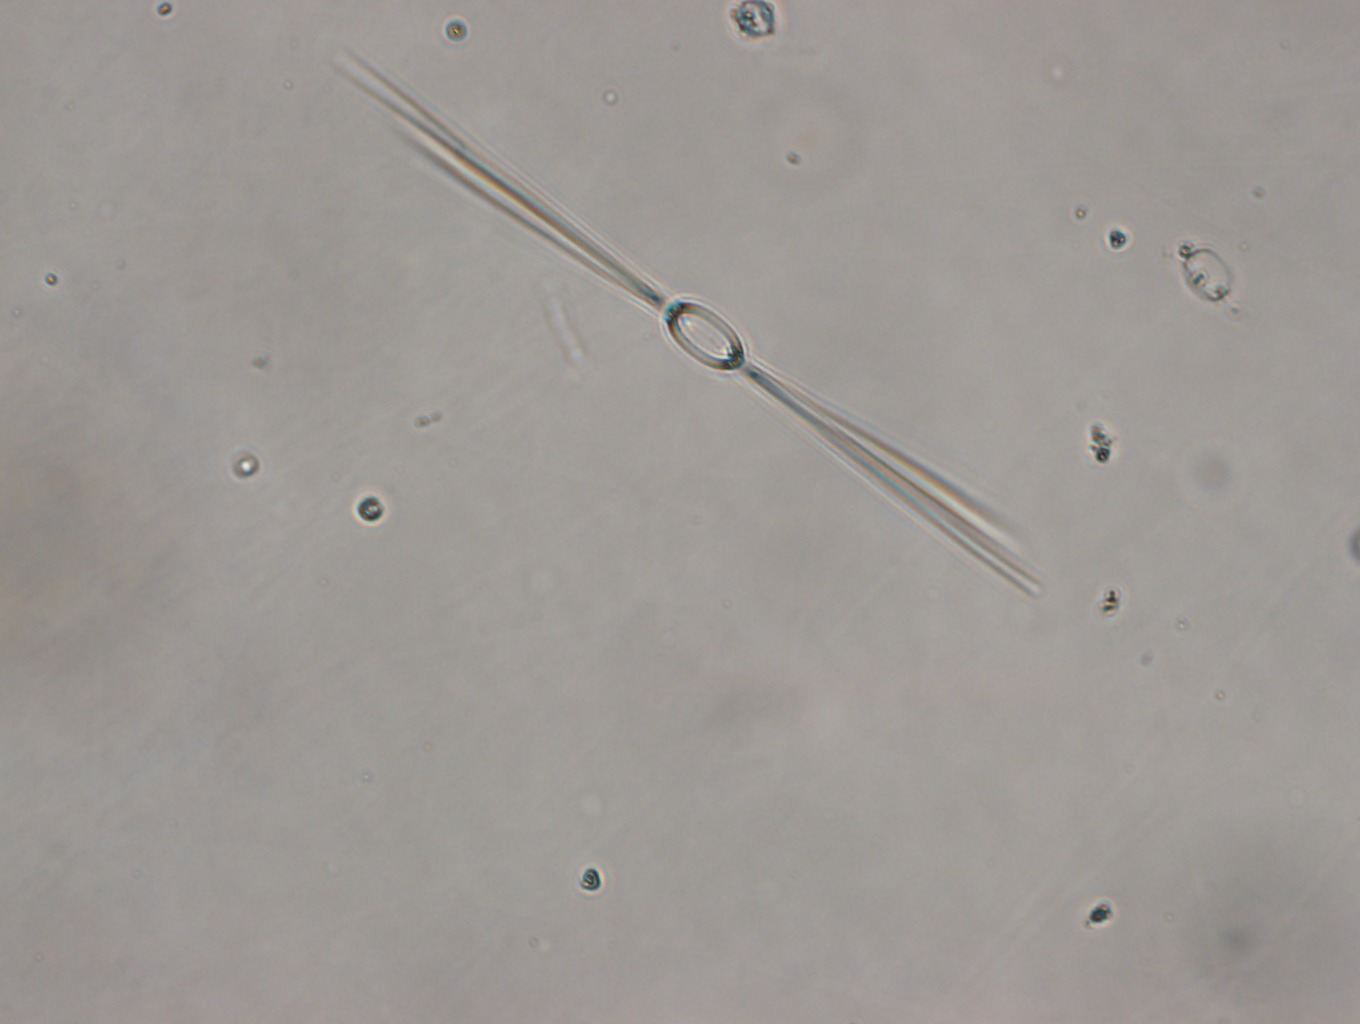chaetoceros: (332, 40, 1044, 599)
